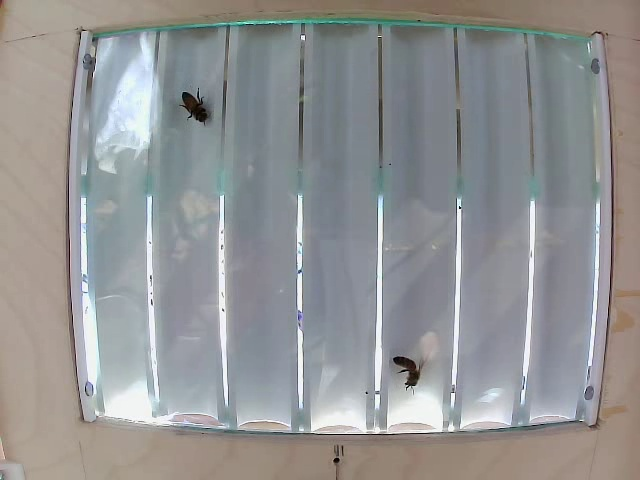bee: (386, 350, 429, 400), (176, 87, 215, 133)
